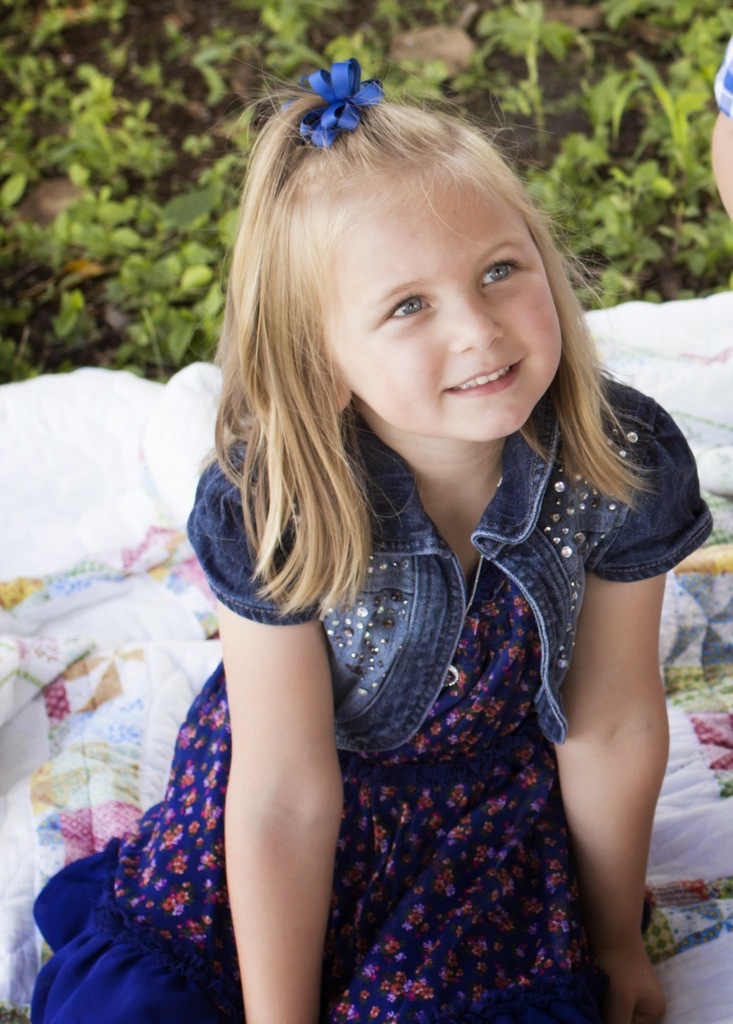Human-face: (324, 165, 593, 429)
